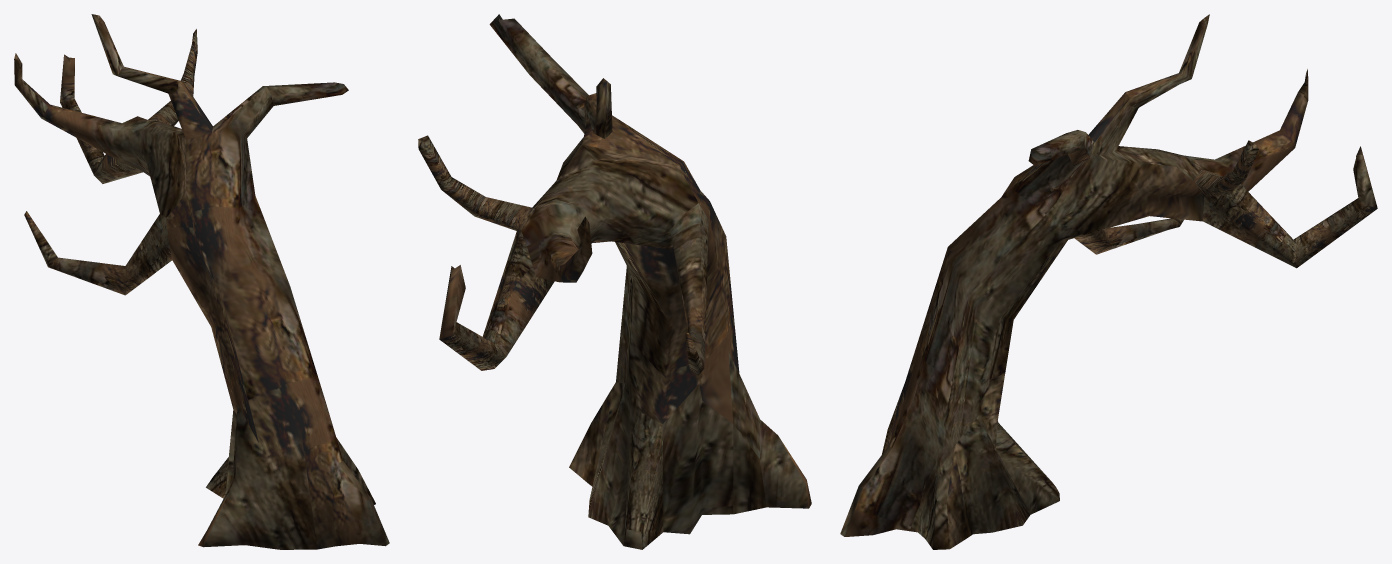
File: Model_Tree_06.fbx
3 views of the same model, side by side, from view 1: azimuth 30°, elevation 25°; view 2: azimuth 150°, elevation 25°; view 3: azimuth 270°, elevation 25° (orthographic). The views are drawn at different scales.
Parts seen in each view (by area): view 1: Tree_06; view 2: Tree_06; view 3: Tree_06.
Boxes of the visible parts, x1,y1,x2,y2 form: Tree_06: [14, 14, 389, 549]; Tree_06: [418, 14, 811, 549]; Tree_06: [840, 14, 1377, 549].
Size of the model in its own units: 216 by 374 by 394.
